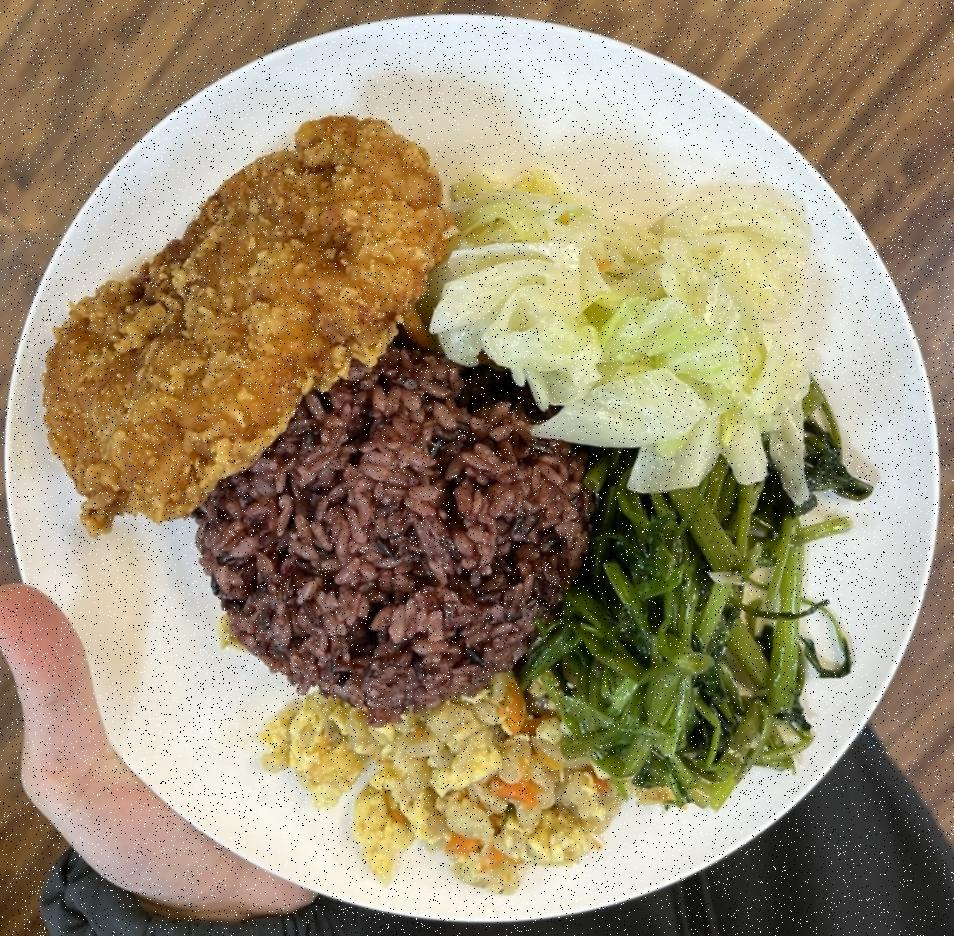kara chicken leg steak: (39, 108, 454, 532)
plate: (0, 14, 936, 922)
purple rice: (194, 341, 578, 704)
side dish: (448, 156, 827, 494), (555, 456, 858, 794), (249, 678, 613, 889)
